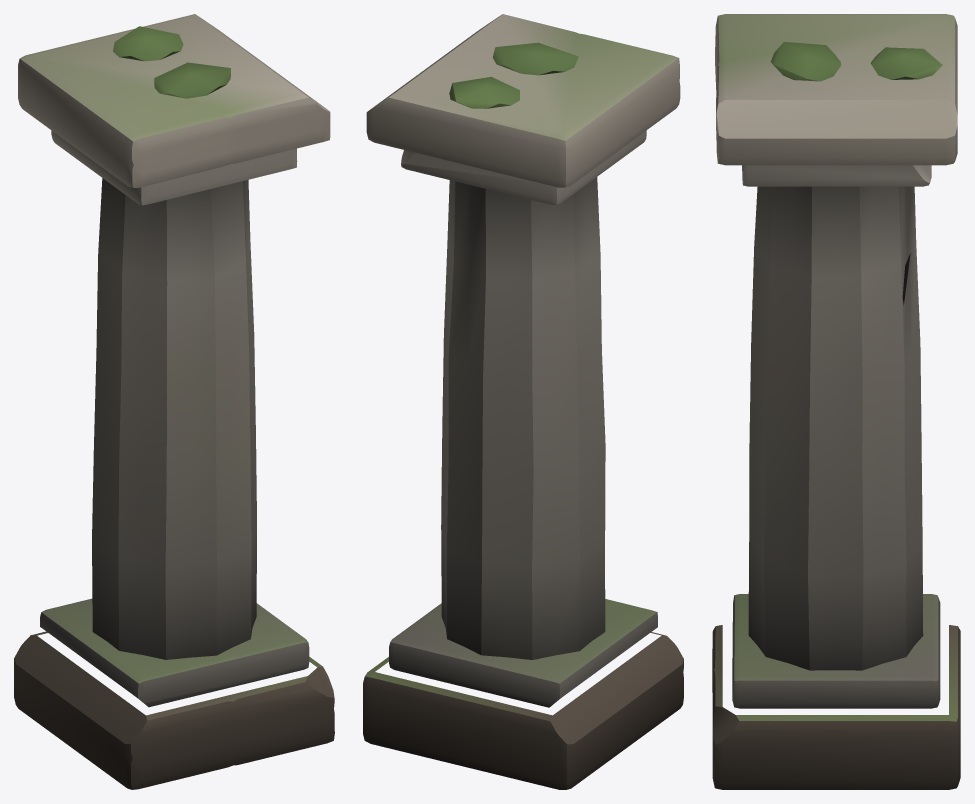
Rendered from ruins-column-v2.glb.
3 views of the same model, side by side, from view 1: azimuth 30°, elevation 25°; view 2: azimuth 150°, elevation 25°; view 3: azimuth 270°, elevation 25° (orthographic). The views are drawn at different scales.
Visible parts, largest first — view 1: 0_ruins_column; view 2: 0_ruins_column; view 3: 0_ruins_column.
Boxes of the visible parts, left/top/right/bottom form: 0_ruins_column: left=14, top=14, right=334, bottom=789; 0_ruins_column: left=363, top=14, right=683, bottom=789; 0_ruins_column: left=712, top=14, right=960, bottom=789.
Bounding box in the file's own units: 0.86 × 2.61 × 0.8553.
